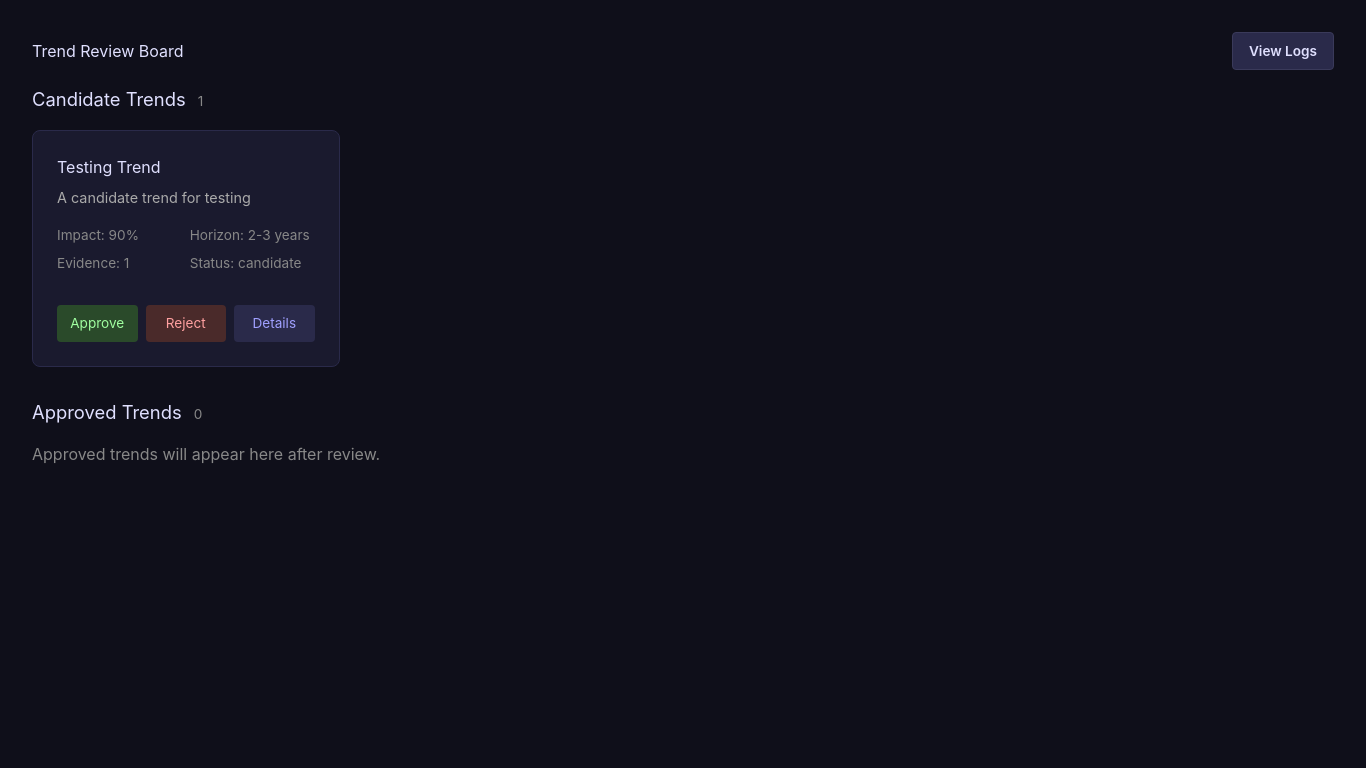
Test: TrendReviewBoard › displays the Trend Score Timeline in details view
Click the button "Details".
click(274, 324)  # box [234,305,314,342]
(page scrolled)
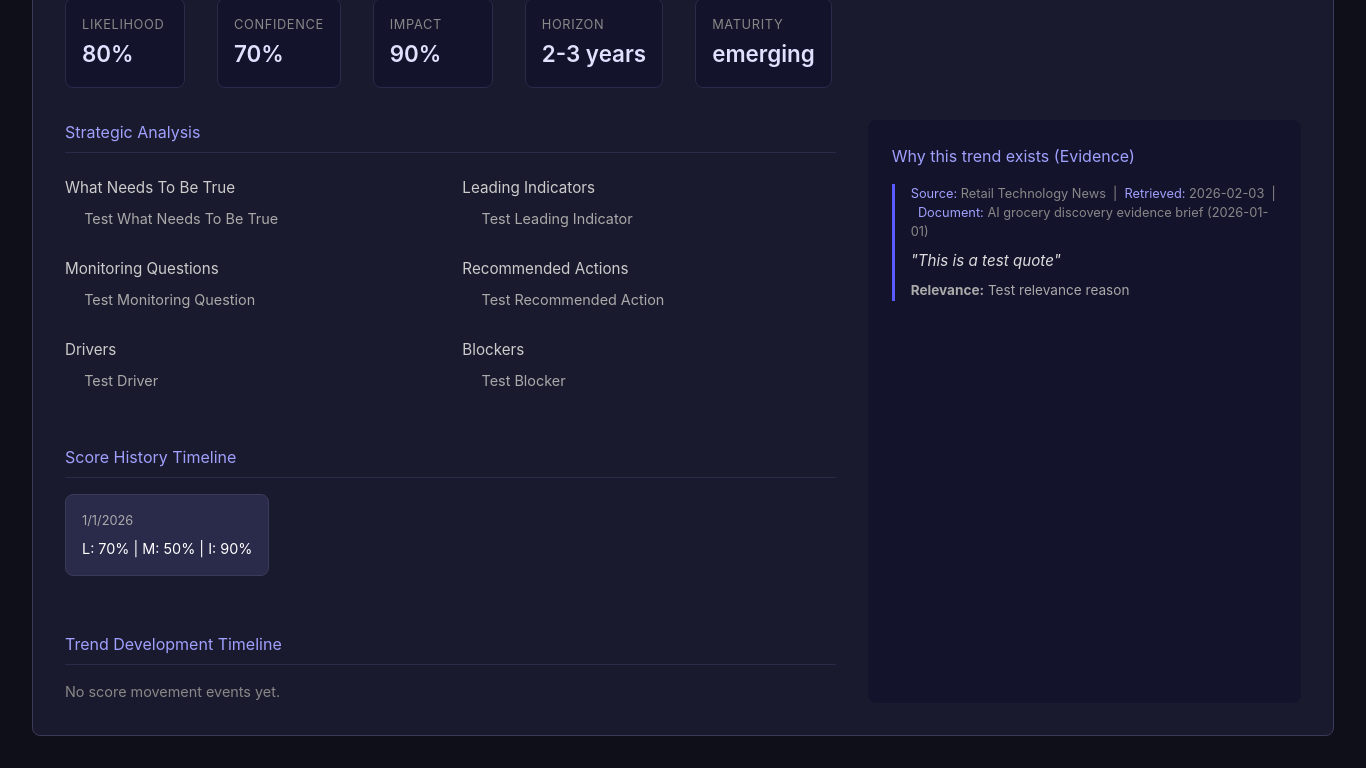
Expected: the heading "Score History Timeline" is shown, [65,445,836,478]
Expected: the text "70%" is shown, [234,40,284,67]
Expected: the text "L: 70% | M: 50% | I: 90%" is shown, [82,538,252,559]
